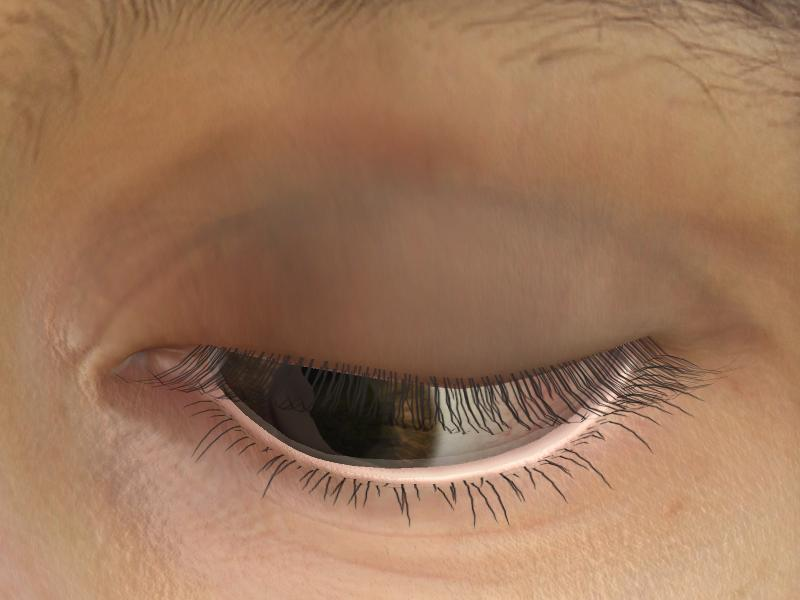eye: (218, 351, 439, 464)
